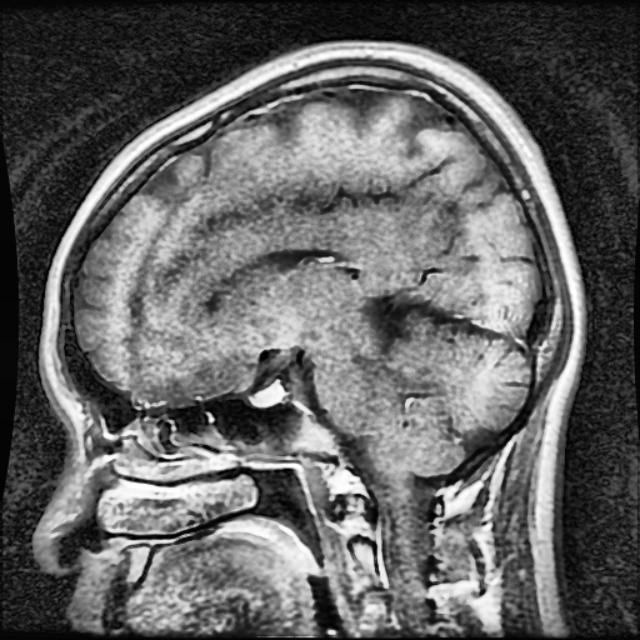Pituitary: (250, 383, 285, 404)
